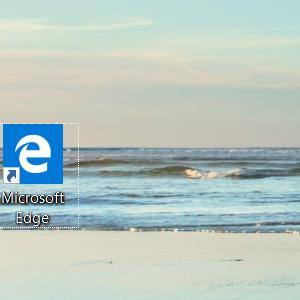edge: (3, 124, 63, 184)
